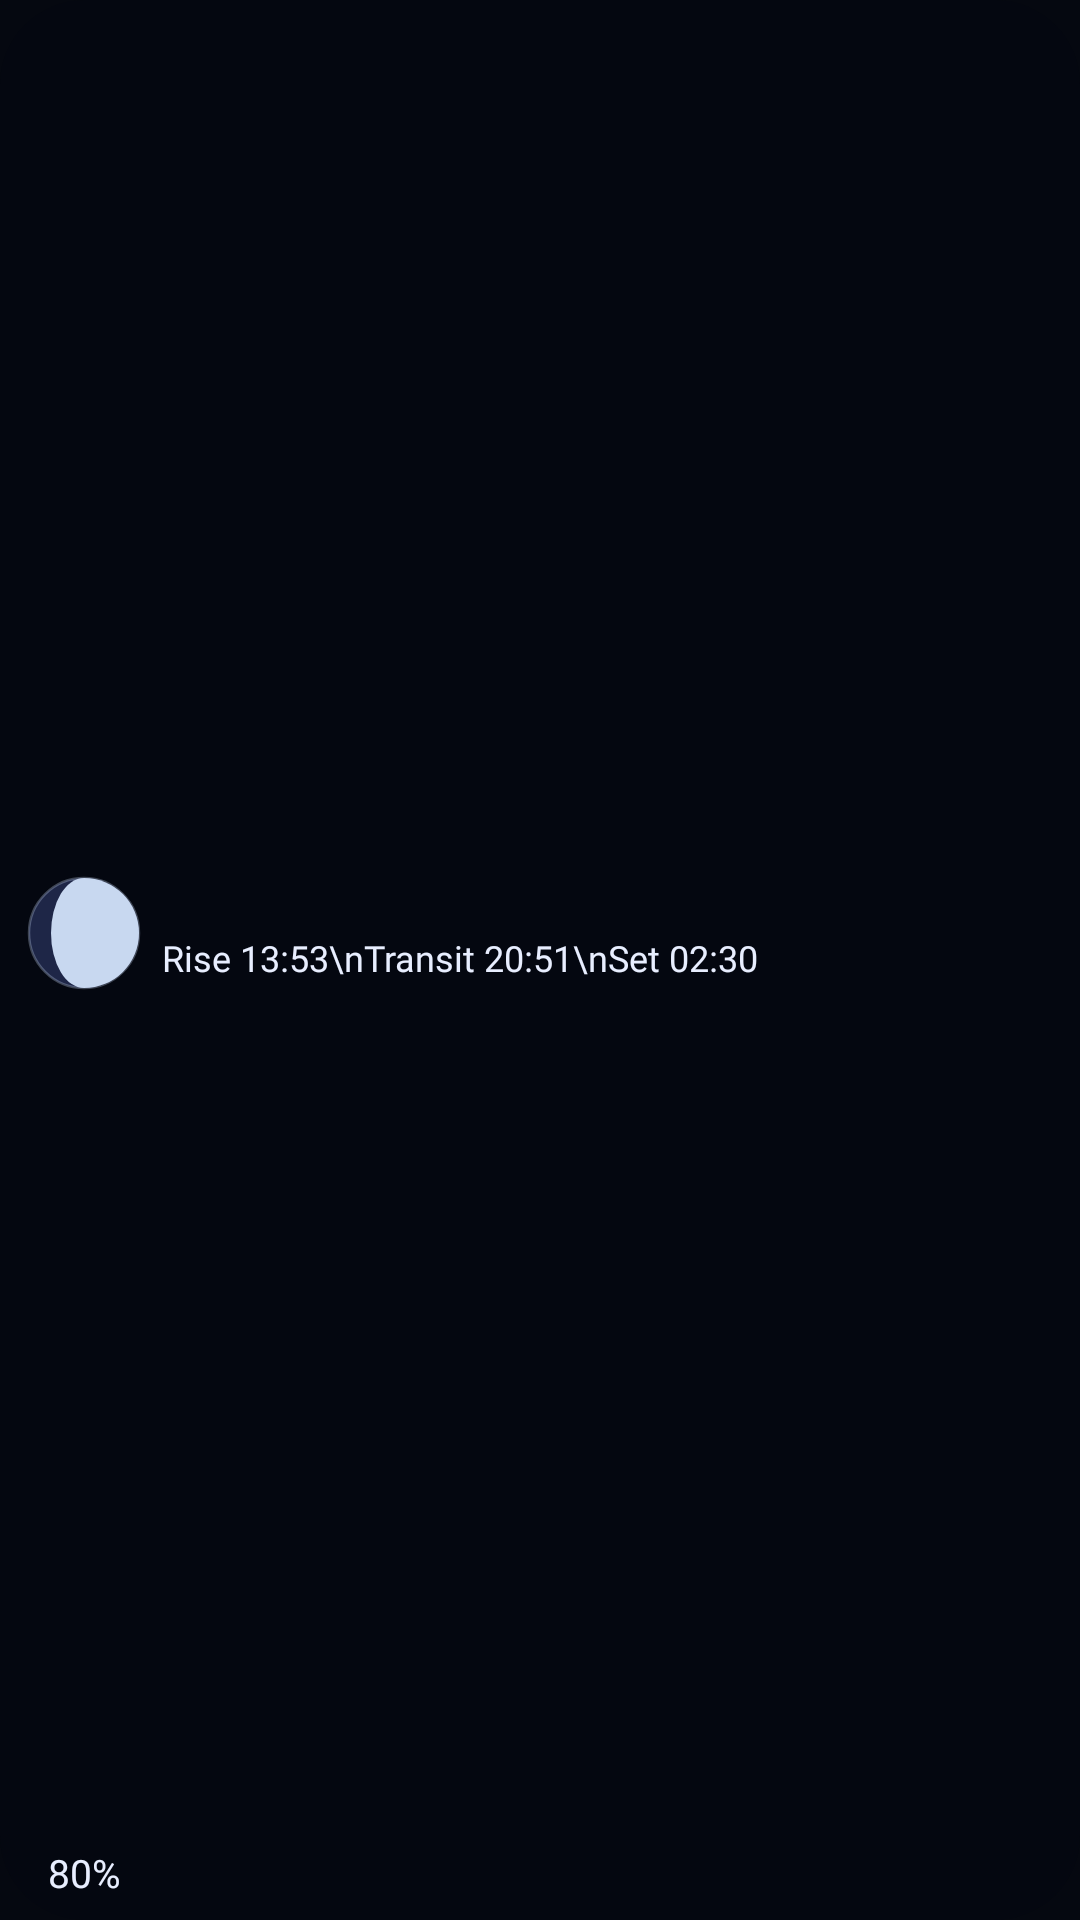

Screen size 1080 x 1920. Icon name, then its box in pixels as [x1=x1, y1=y1, x2=x2, y2=y2]:
widget moon: [x1=28, y1=877, x2=140, y2=989]
